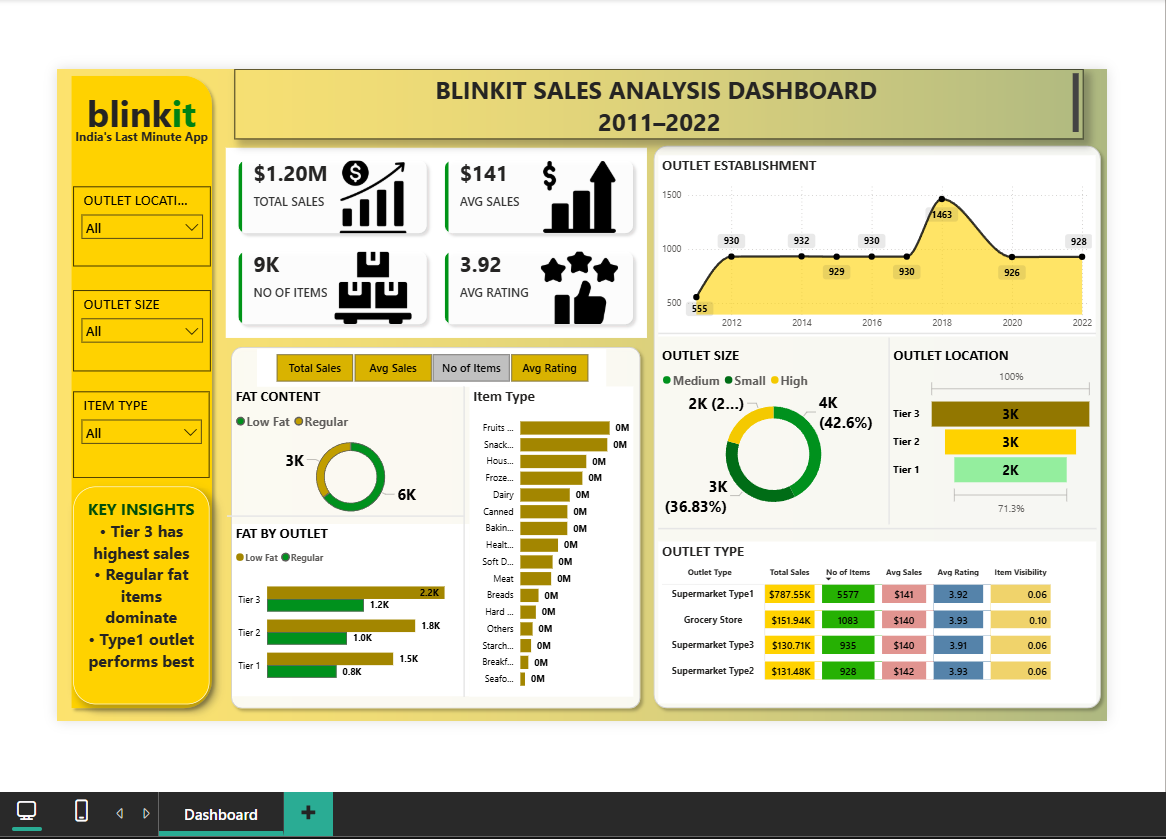

What the dashboard file says about the page in this screenshot:
{"tool":"powerbi","page":{"name":"Dashboard ","canvas":[1400,870],"ordinal":0},"visuals":[{"type":"shape","box":[10.5,0,205.6,861.5],"z":0},{"type":"textbox","box":[31.5,19.5,162.1,75],"z":1000},{"type":"textbox","box":[10.5,73.5,205.6,42],"z":2000},{"type":"cardVisual","fields":{"Data":["Measures (2).Total Sales","Measures (2).Avg Sales","Measures (2).Number of Items","Measures (2).Avg Rating"]},"box":[225,105,561.7,253.3],"z":3000},{"type":"shape","box":[223.3,361.7,563.3,500],"z":4000},{"type":"slicer","fields":{"Values":["Metrics.Metrics"]},"box":[267.2,373.1,465.3,50],"z":5000},{"type":"donutChart","title":"FAT CONTENT","fields":{"Y":["Measures (2).Avg Rating"],"Category":["Grocery Data.Item Fat Content"]},"box":[232.6,422.6,316.7,184.6],"z":6000},{"type":"clusteredBarChart","title":"FAT BY OUTLET","fields":{"Y":["Measures (2).Avg Rating"],"Series":["Grocery Data.Item Fat Content"],"Category":["Grocery Data.Outlet Location Type"]},"box":[232.6,607.2,316.7,229.6],"z":7000},{"type":"barChart","title":"Item Type","fields":{"Y":["Measures (2).Avg Rating"],"Category":["Grocery Data.Item Type"]},"box":[550,423.3,218.3,413.3],"z":8000},{"type":"shape","box":[226.7,590,316.7,12.2],"z":9000},{"type":"shape","box":[479,423,129,414],"z":10000},{"type":"shape","box":[786,94,614,768],"z":11000},{"type":"lineChart","title":"OUTLET ESTABLISHMENT","fields":{"Y":["Measures (2).Avg Rating"],"Category":["Grocery Data.Outlet Establishment Year"]},"box":[801.7,115,583.3,241.7],"z":12000},{"type":"shape","box":[801.8,346.4,583.6,11.8],"z":13000},{"type":"donutChart","title":"OUTLET SIZE","fields":{"Y":["Measures (2).Avg Rating"],"Category":["Grocery Data.Outlet Size"]},"box":[801.5,368,307.7,234.1],"z":14000},{"type":"shape","box":[801.1,606.7,584.4,12.2],"z":15000},{"type":"shape","box":[1044.4,357.8,128.9,248.9],"z":16000},{"type":"funnel","title":"OUTLET LOCATION","fields":{"Y":["Measures (2).Avg Rating"],"Category":["Grocery Data.Outlet Location Type"]},"box":[1110,368.3,276.7,233.3],"z":17000},{"type":"pivotTable","title":"OUTLET TYPE","fields":{"Rows":["Grocery Data.Outlet Type"],"Values":["Measures (2).Total Sales","Measures (2).No of Items","Measures (2).Avg Sales","Measures (2).Avg Rating","Avg(Grocery Data.Item Visibility)"]},"box":[802,630,584,216],"z":18000},{"type":"slicer","fields":{"Values":["Grocery Data.Outlet Location Type"]},"box":[21.7,156.7,183.3,106.7],"z":19000},{"type":"slicer","fields":{"Values":["Grocery Data.Outlet Size"]},"box":[21.7,295,183.3,108.3],"z":20000},{"type":"slicer","fields":{"Values":["Grocery Data.Item Type"]},"box":[21.7,430,181.7,115],"z":21000},{"type":"textbox","box":[236.7,0,1131.7,93.3],"z":22000},{"type":"textbox","box":[21.7,556.7,181.7,290],"z":23000}]}

Visuals, with their boxes on the page's 1400x870 design canvas (x1, y1, x2, y2). These are canvas units, not pixel positions in the 1166x839 screenshot, which may show the page scaled, cropped or inside an application window:
shape: box=[10, 0, 216, 862]
textbox: box=[32, 20, 194, 94]
textbox: box=[10, 74, 216, 116]
cardVisual - Measures (2).Total Sales x Measures (2).Avg Sales: box=[225, 105, 787, 358]
shape: box=[223, 362, 787, 862]
slicer - Metrics.Metrics: box=[267, 373, 732, 423]
"FAT CONTENT" donutChart: box=[233, 423, 549, 607]
"FAT BY OUTLET" clusteredBarChart: box=[233, 607, 549, 837]
"Item Type" barChart: box=[550, 423, 768, 837]
shape: box=[227, 590, 543, 602]
shape: box=[479, 423, 608, 837]
shape: box=[786, 94, 1400, 862]
"OUTLET ESTABLISHMENT" lineChart: box=[802, 115, 1385, 357]
shape: box=[802, 346, 1385, 358]
"OUTLET SIZE" donutChart: box=[802, 368, 1109, 602]
shape: box=[801, 607, 1386, 619]
shape: box=[1044, 358, 1173, 607]
"OUTLET LOCATION" funnel: box=[1110, 368, 1387, 602]
"OUTLET TYPE" pivotTable: box=[802, 630, 1386, 846]
slicer - Grocery Data.Outlet Location Type: box=[22, 157, 205, 263]
slicer - Grocery Data.Outlet Size: box=[22, 295, 205, 403]
slicer - Grocery Data.Item Type: box=[22, 430, 203, 545]
textbox: box=[237, 0, 1368, 93]
textbox: box=[22, 557, 203, 847]
